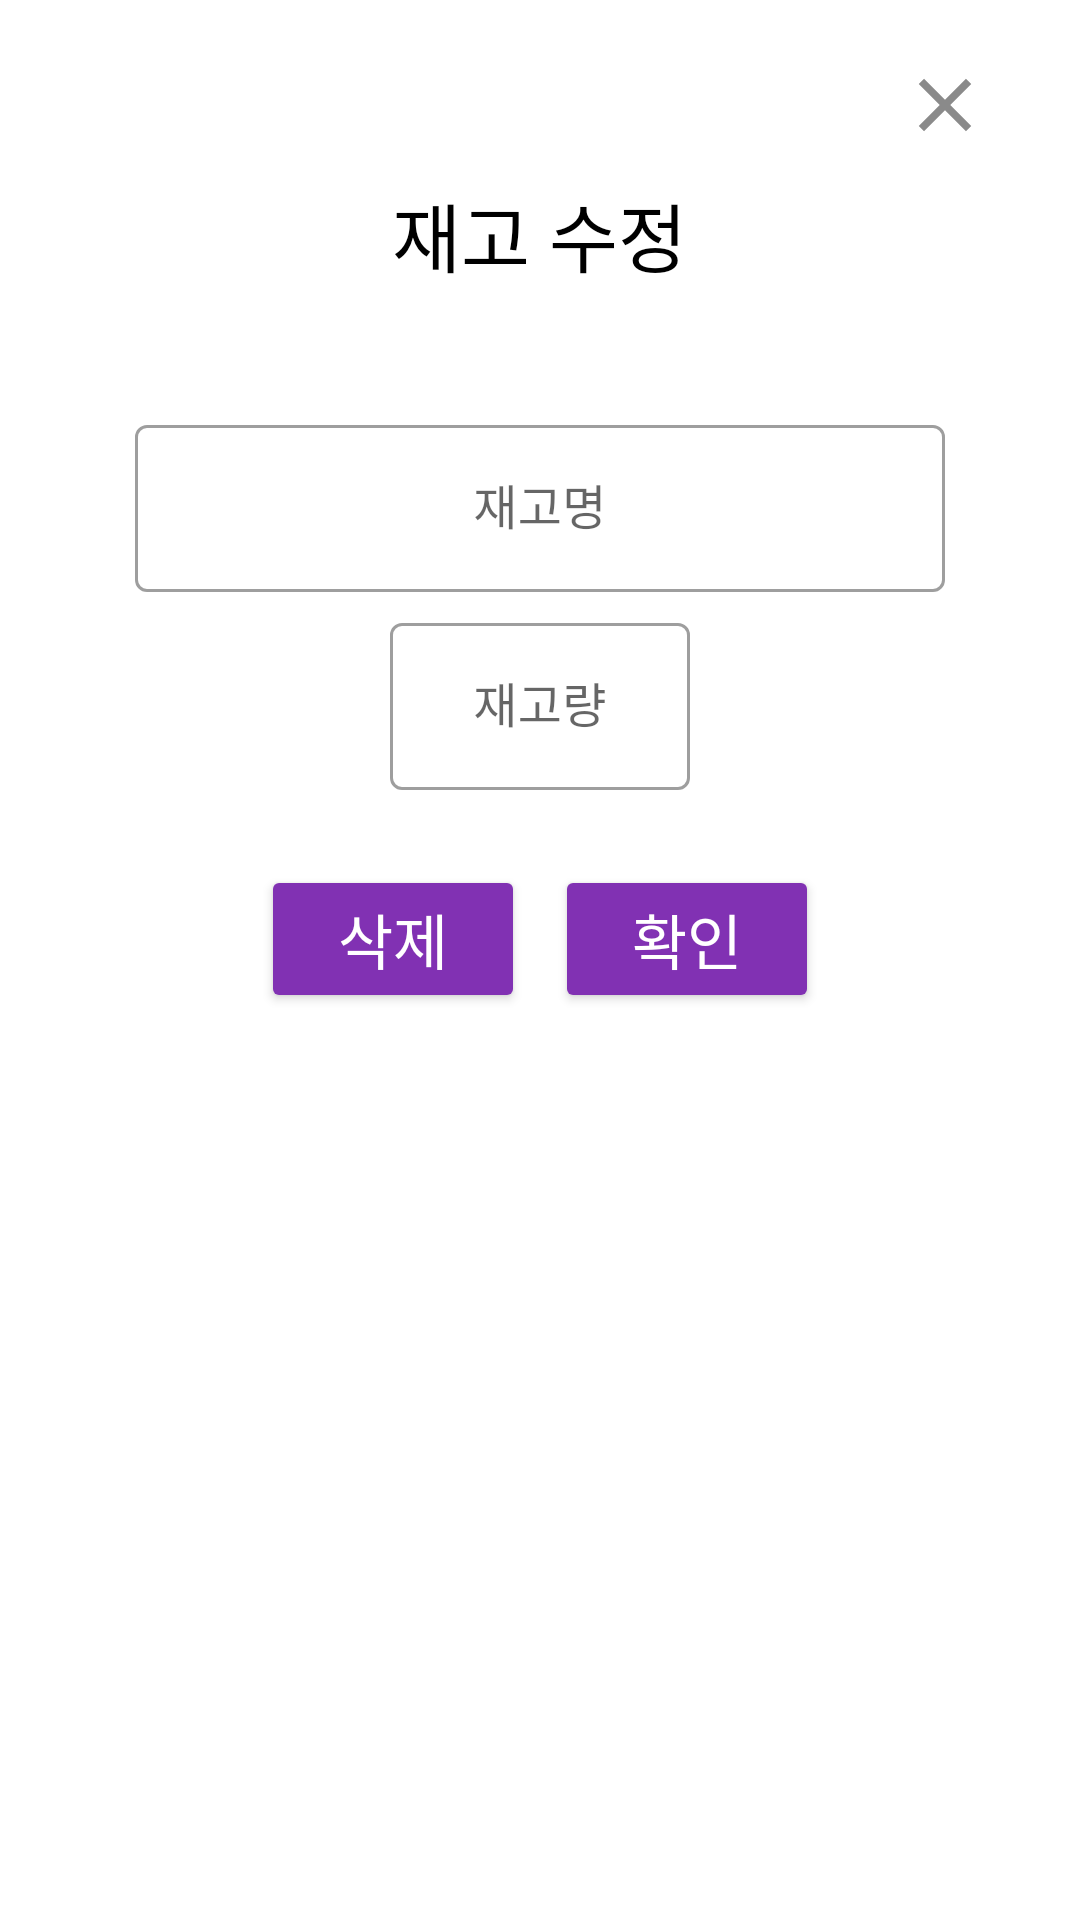

Named icons in this screenshot (1080px×1920px) and their bounding boxes, rect(x1, y1, x2, y2):
close: rect(919, 79, 971, 131)
